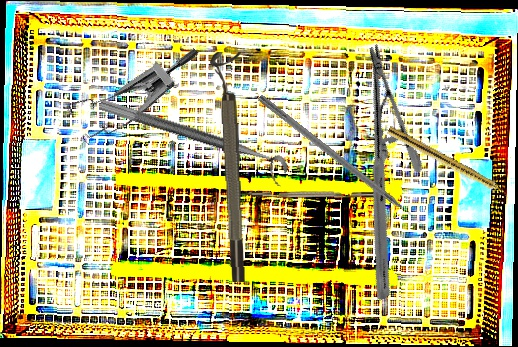Chopper: (230, 189, 381, 206)
Fixation Ring: (93, 98, 291, 187), (209, 51, 250, 283)
Handpiece: (385, 125, 512, 201)
Hook Surgical: (256, 94, 425, 229)
Needle Holder: (264, 42, 494, 302)
Speculum: (57, 9, 200, 164)
